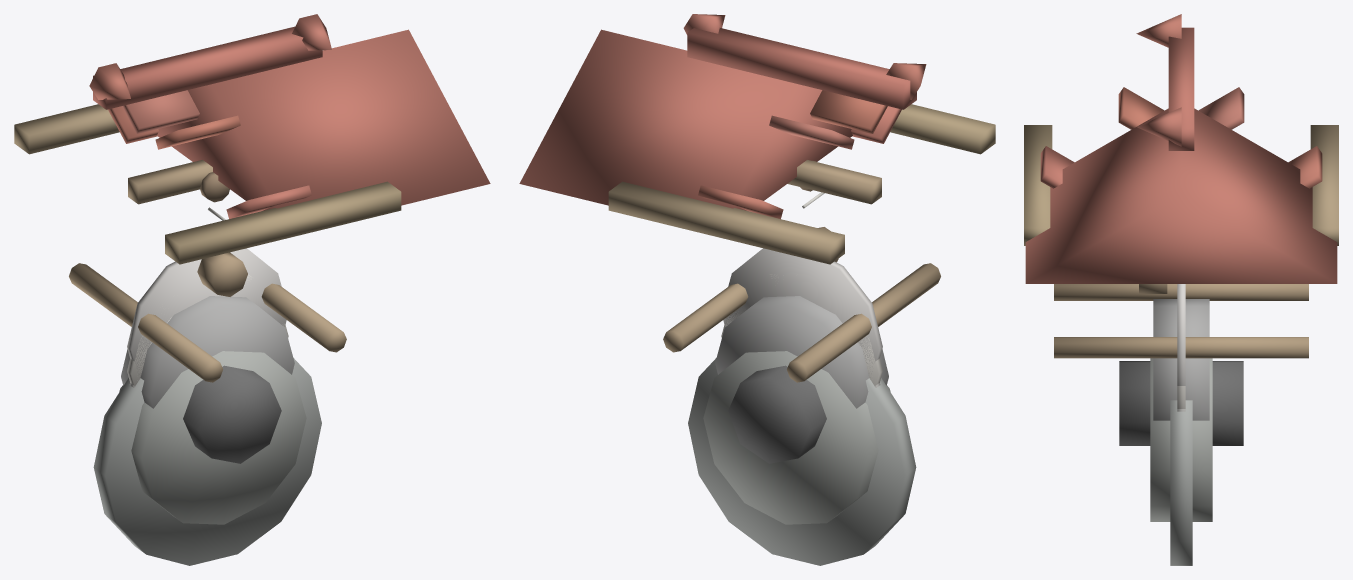
Rendered from building_well.glb.
3 views of the same model, side by side, from view 1: azimuth 30°, elevation 25°; view 2: azimuth 150°, elevation 25°; view 3: azimuth 270°, elevation 25° (orthographic). The views are drawn at different scales.
Parts seen in each view (by area): view 1: roof_roof_body, wall0, ground_ring, roof_eave_1, wall1, roof_ridge, inner, band3, post-1, roof_eave_-1, post1, crossbar (+9 smaller); view 2: roof_roof_body, wall0, ground_ring, roof_ridge, roof_eave_-1, wall1, inner, band3, post-1, roof_eave_1, crossbar, post1 (+7 smaller); view 3: roof_roof_body, post1, inner, wall0, wall1, post-1, ground_ring, roof_ridge, roof_eave_-1, roof_eave_1, roof_tile_-1_1, roof_tile_1_1 (+5 smaller).
Part boxes in pixels (x1=…): roof_roof_body: x1=157, y1=29, x2=490, y2=210; wall0: x1=119, y1=351, x2=306, y2=524; ground_ring: x1=93, y1=358, x2=321, y2=565; roof_eave_1: x1=165, y1=181, x2=401, y2=264; wall1: x1=121, y1=296, x2=294, y2=408; roof_ridge: x1=93, y1=26, x2=322, y2=109; inner: x1=183, y1=365, x2=281, y2=463; band3: x1=127, y1=248, x2=286, y2=377; post-1: x1=69, y1=263, x2=222, y2=382; roof_eave_-1: x1=14, y1=104, x2=119, y2=154; post1: x1=261, y1=283, x2=346, y2=352; crossbar: x1=128, y1=160, x2=212, y2=204; roof_roof_body: x1=519, y1=29, x2=852, y2=210; wall0: x1=703, y1=351, x2=890, y2=524; ground_ring: x1=688, y1=358, x2=916, y2=565; roof_ridge: x1=687, y1=28, x2=916, y2=109; roof_eave_-1: x1=608, y1=181, x2=844, y2=264; wall1: x1=715, y1=296, x2=888, y2=408; inner: x1=728, y1=365, x2=826, y2=463; band3: x1=723, y1=248, x2=882, y2=379; post-1: x1=787, y1=263, x2=940, y2=382; roof_eave_1: x1=890, y1=104, x2=995, y2=154; crossbar: x1=787, y1=160, x2=881, y2=204; post1: x1=663, y1=283, x2=748, y2=352; roof_roof_body: x1=1025, y1=108, x2=1337, y2=283; post1: x1=1054, y1=337, x2=1308, y2=358; inner: x1=1119, y1=361, x2=1243, y2=445; wall0: x1=1150, y1=358, x2=1212, y2=521; wall1: x1=1153, y1=299, x2=1209, y2=420; post-1: x1=1054, y1=284, x2=1308, y2=300; ground_ring: x1=1170, y1=400, x2=1192, y2=565; roof_ridge: x1=1168, y1=27, x2=1194, y2=150; roof_eave_-1: x1=1310, y1=125, x2=1338, y2=245; roof_eave_1: x1=1024, y1=125, x2=1052, y2=245; roof_tile_-1_1: x1=1118, y1=87, x2=1164, y2=129; roof_tile_1_1: x1=1198, y1=87, x2=1244, y2=129.
Size of the model in its own units: 1.24 by 1.91 by 1.11.
